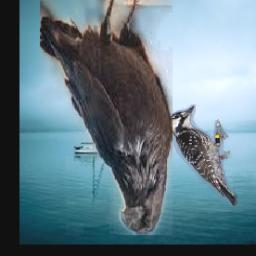Crow: (39, 0, 172, 236)
Woodpecker: (167, 106, 237, 207)
